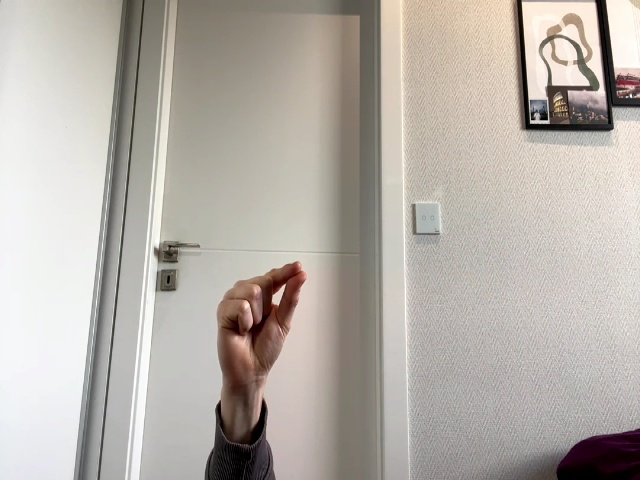P: (217, 262, 306, 380)
